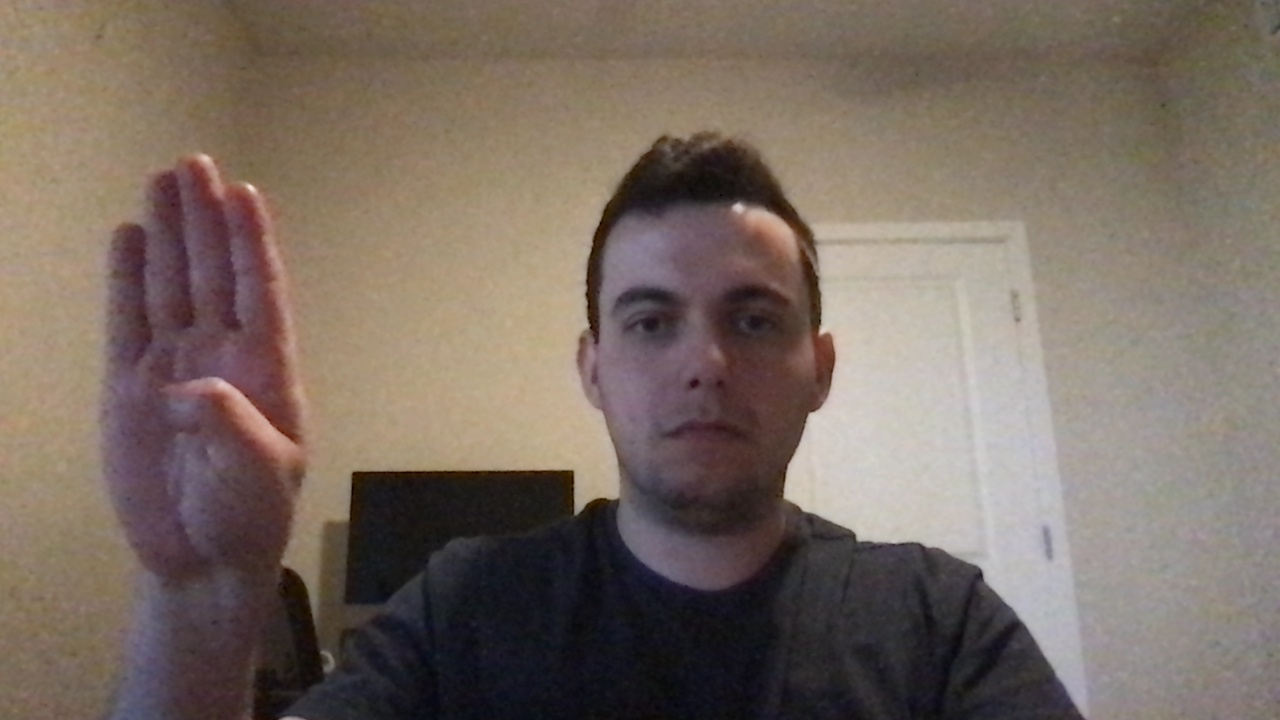b: (87, 144, 313, 591)
